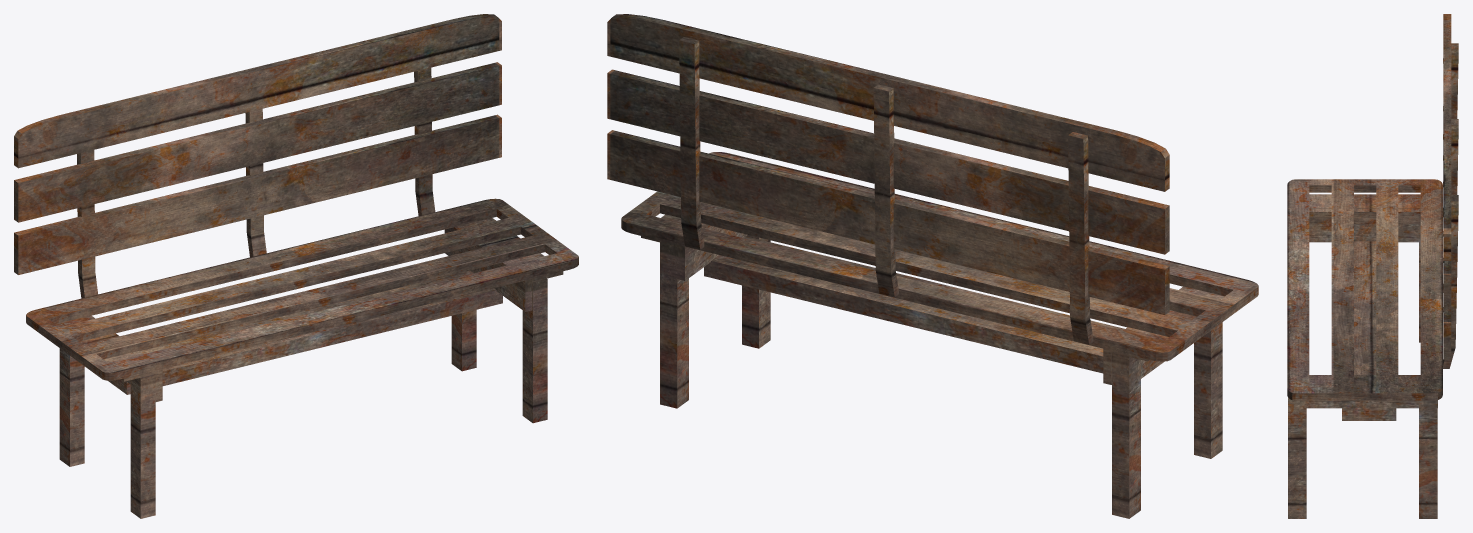
Rendered from bench3.fbx.
3 renders of one model, left to right at view 1: azimuth 30°, elevation 25°; view 2: azimuth 150°, elevation 25°; view 3: azimuth 270°, elevation 25°, orthographic. The views are drawn at different scales.
Visible parts, largest first — view 1: bench3; view 2: bench3; view 3: bench3.
Part boxes in pixels (<box>): bench3: <box>14,14,578,518</box>; bench3: <box>607,14,1258,518</box>; bench3: <box>1287,14,1458,518</box>.
Size of the model in its own units: 150 by 100 by 50.
